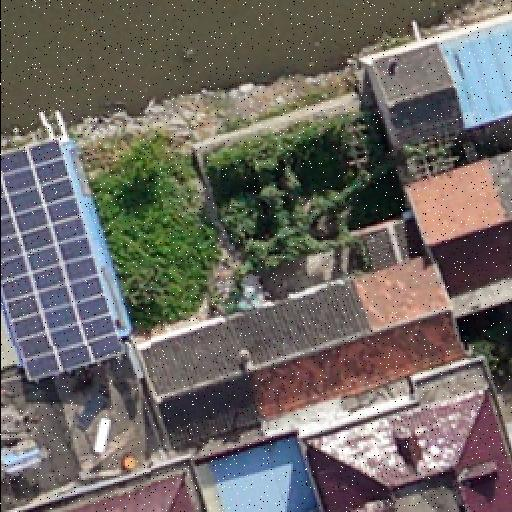solar-panel: (0, 119, 129, 386)
